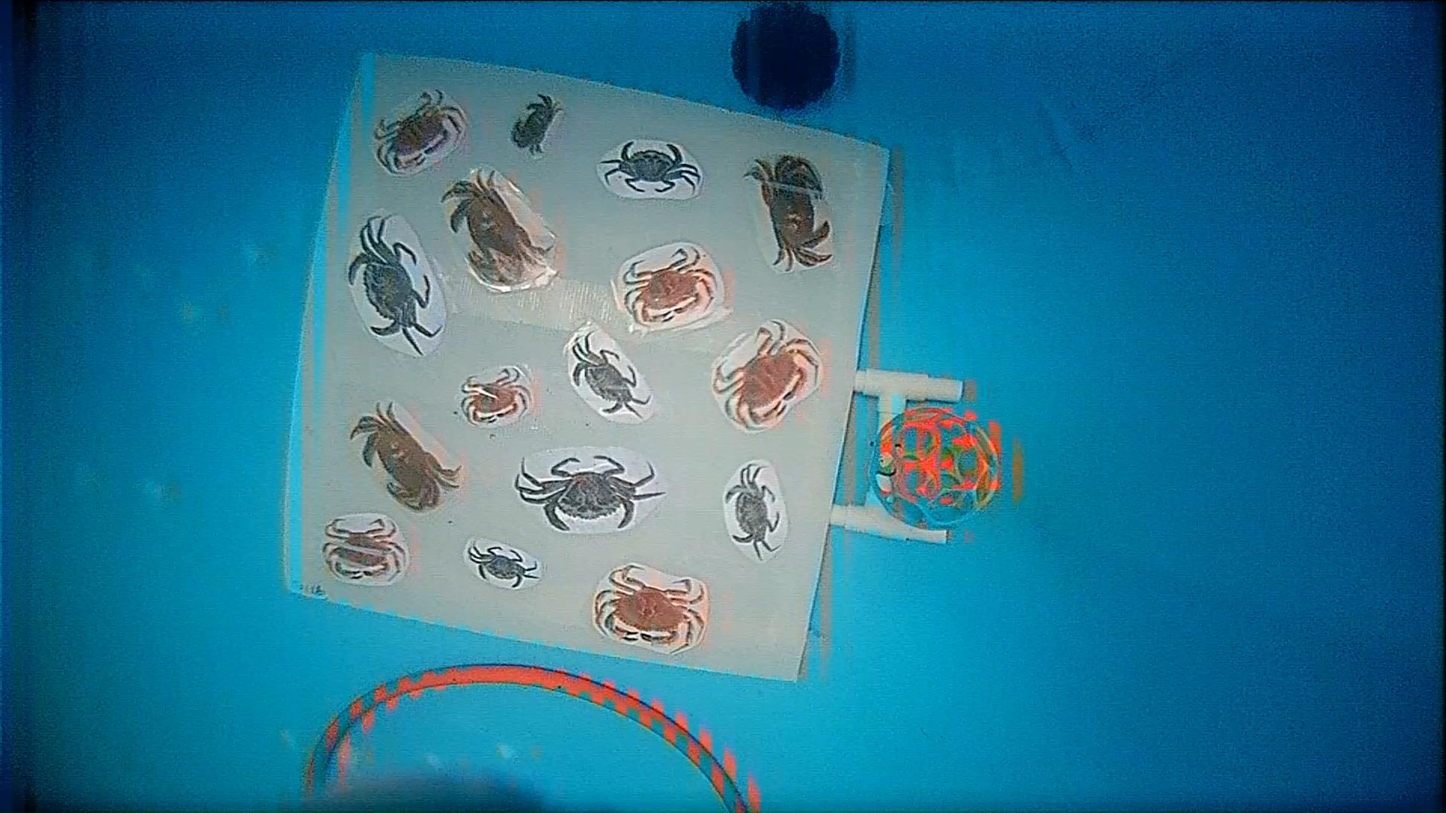GreenCrab: (349, 217, 439, 355), (514, 455, 664, 531), (572, 333, 649, 416), (725, 464, 780, 560), (602, 142, 700, 193), (468, 546, 538, 588)
